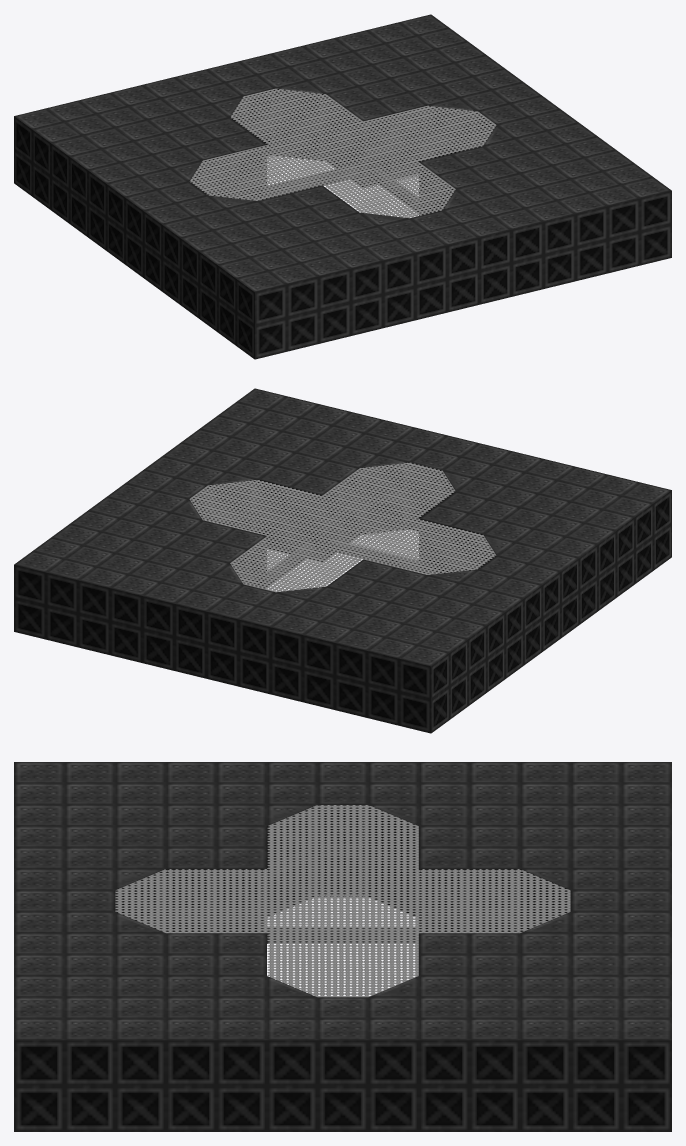
The model's file is soyuz_launcher_table.obj.
The picture shows the model from 3 angles, top to bottom: view 1: azimuth 30°, elevation 25°; view 2: azimuth 150°, elevation 25°; view 3: azimuth 270°, elevation 25°; orthographic projection. The views are drawn at different scales.
Parts seen in each view (by area): view 1: Cube_Cube.001; view 2: Cube_Cube.001; view 3: Cube_Cube.001.
Part boxes in pixels (x1,y1,x2,y2): Cube_Cube.001: (14,14,671,359); Cube_Cube.001: (14,388,671,733); Cube_Cube.001: (14,762,671,1131).
Size of the model in its own units: 13 by 2 by 13.
